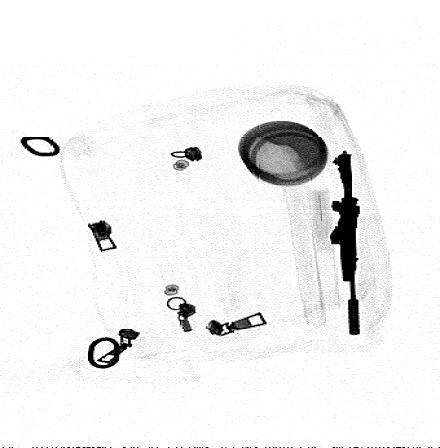Gun: (328, 153, 362, 336)
